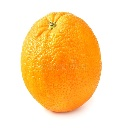orange: (19, 9, 104, 116)
